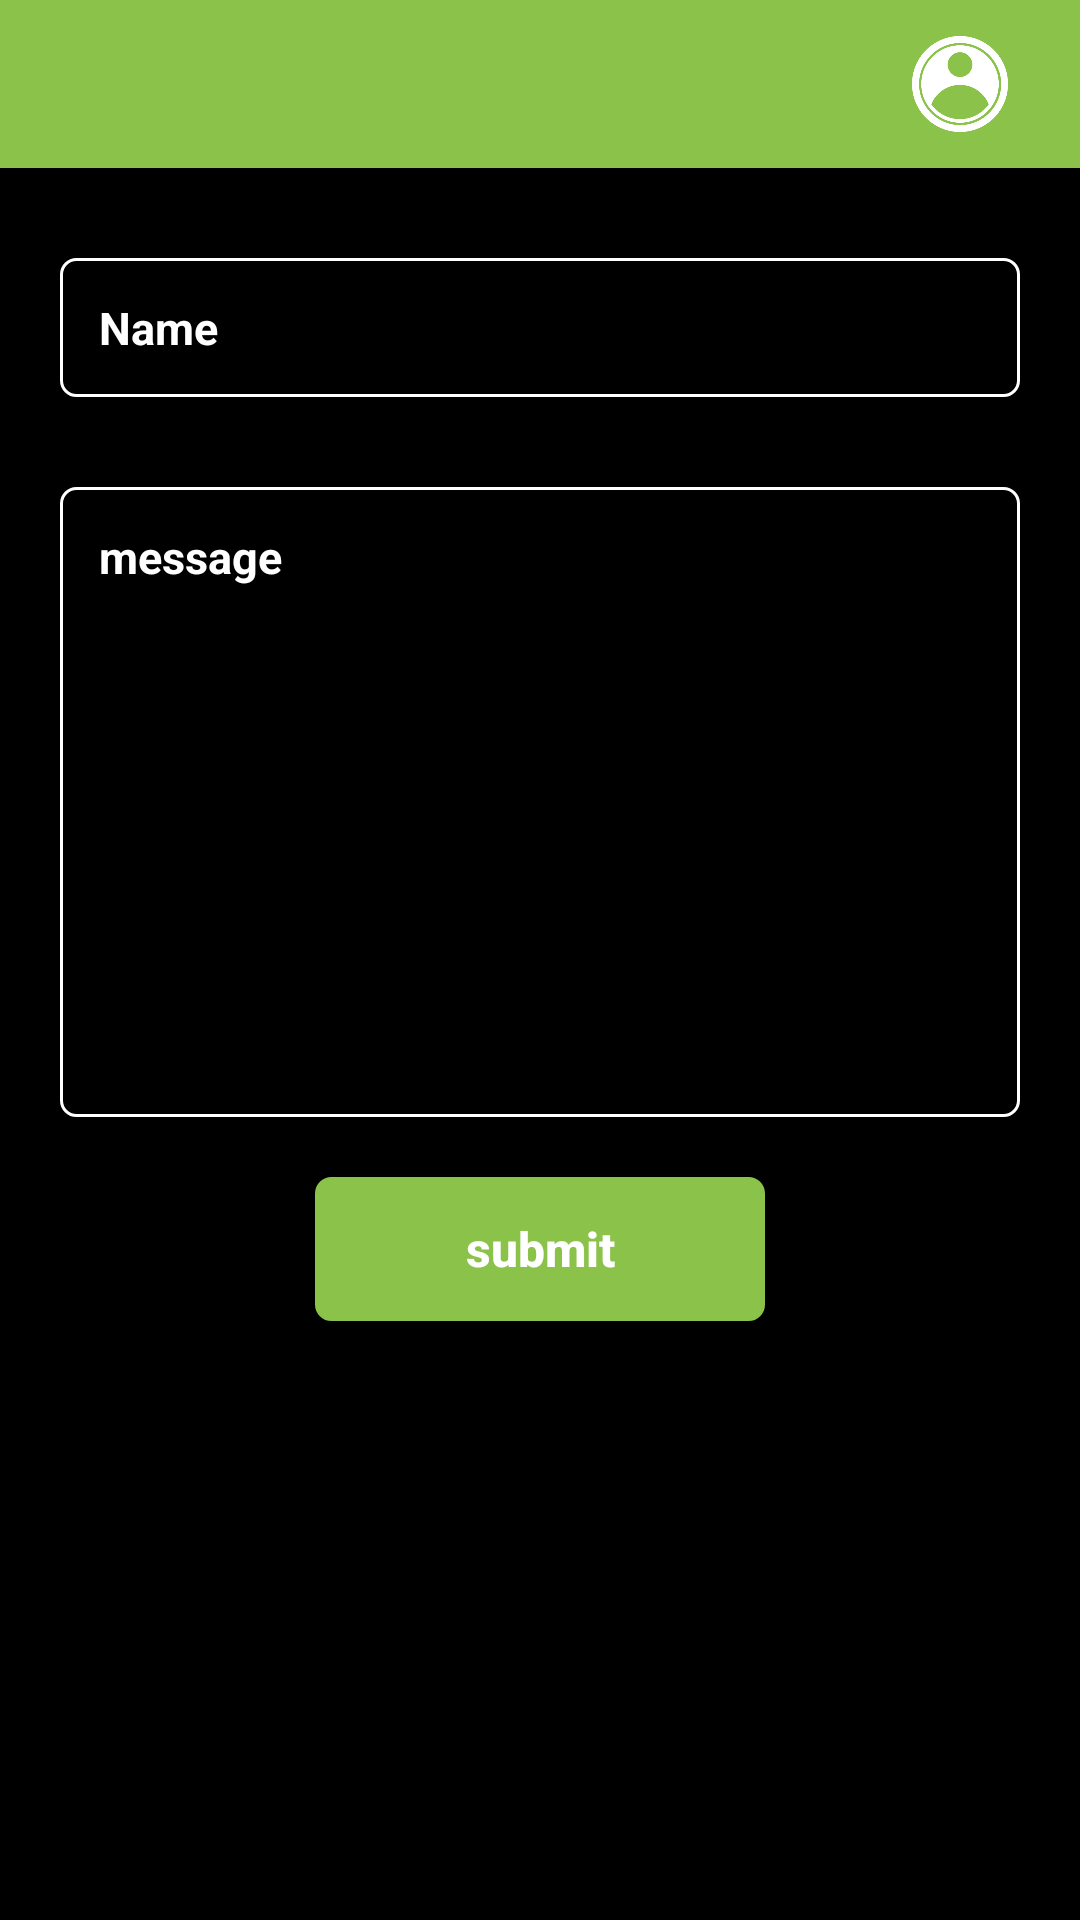

Icons on this 1080px x 1920px Android screen, each with its box as detection(x1, y1, x2, y2):
userima: detection(912, 36, 1008, 132)
